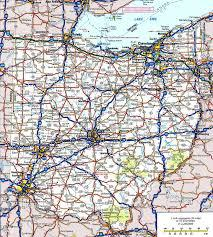ohio: (36, 41, 204, 209)
